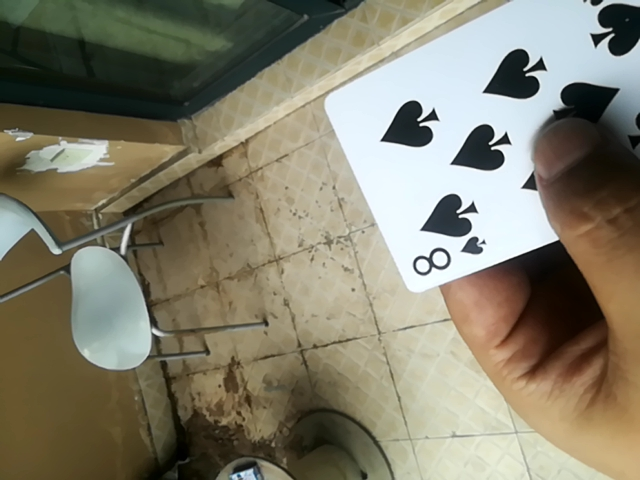ht 8: (324, 0, 635, 302)
